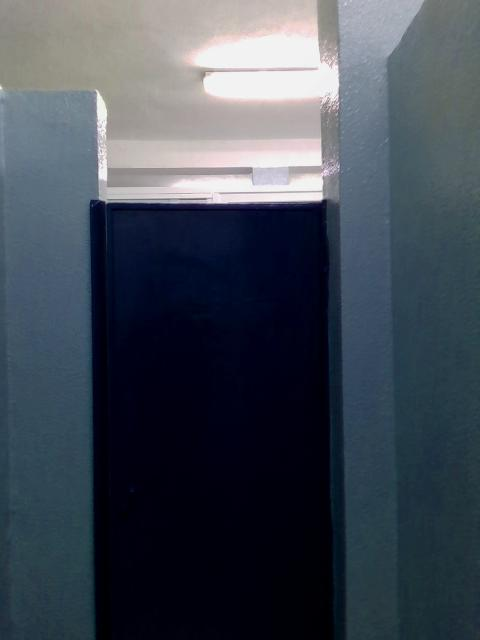closed_door: (92, 202, 328, 639)
